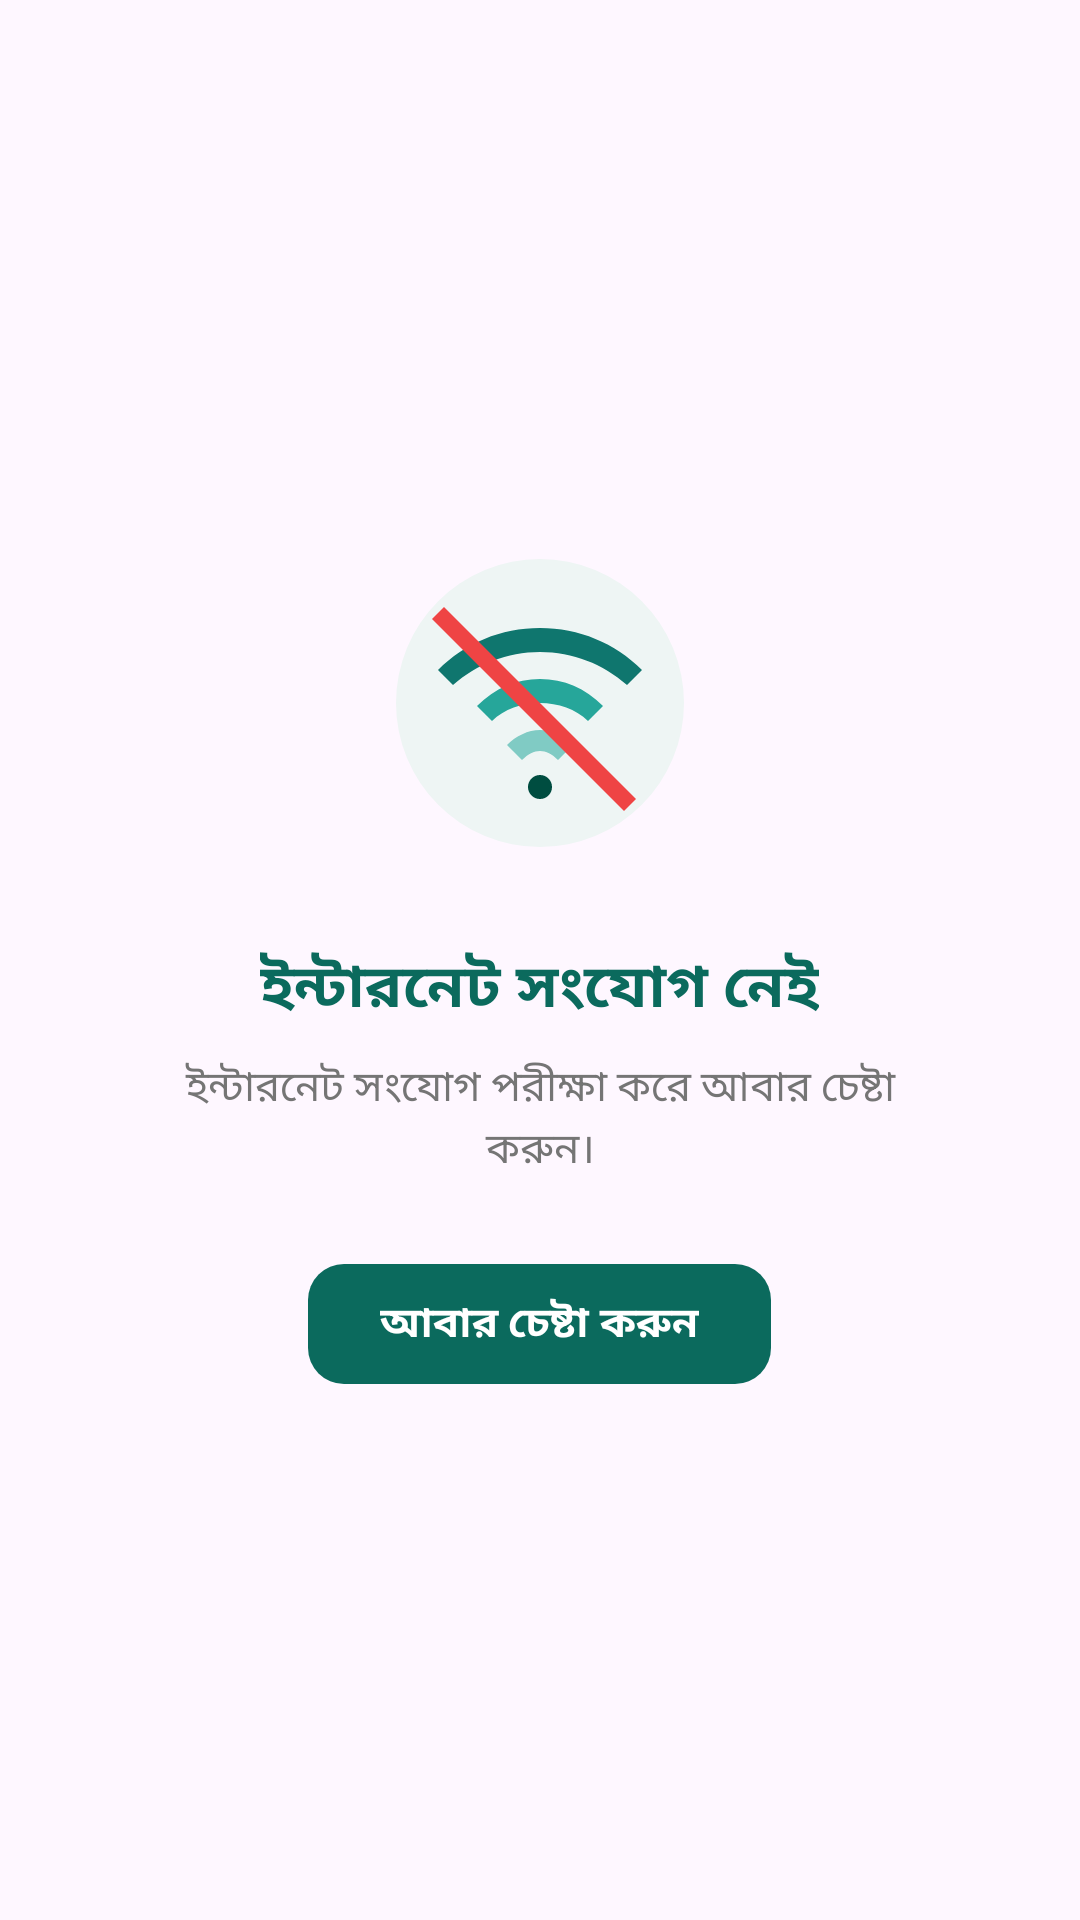

Point at icon controls on the screen. Image size 1080x1920, points as point (x, y).
no internet: point (540, 703)
